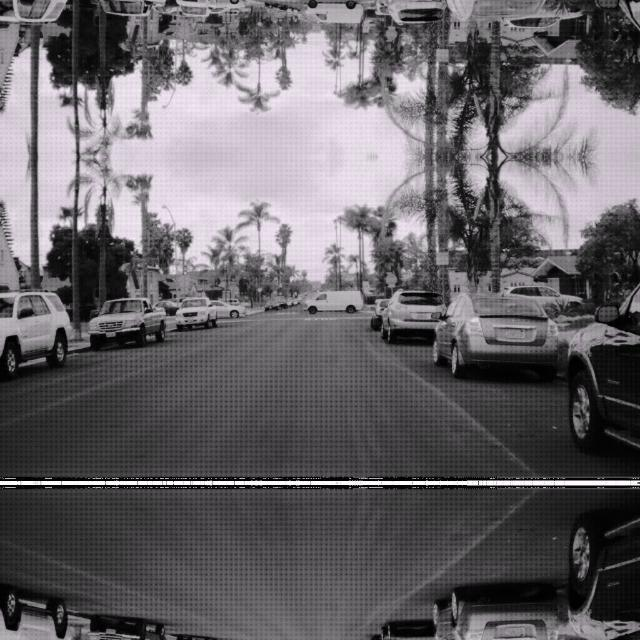stop: (385, 272, 397, 284), (385, 28, 397, 40)
